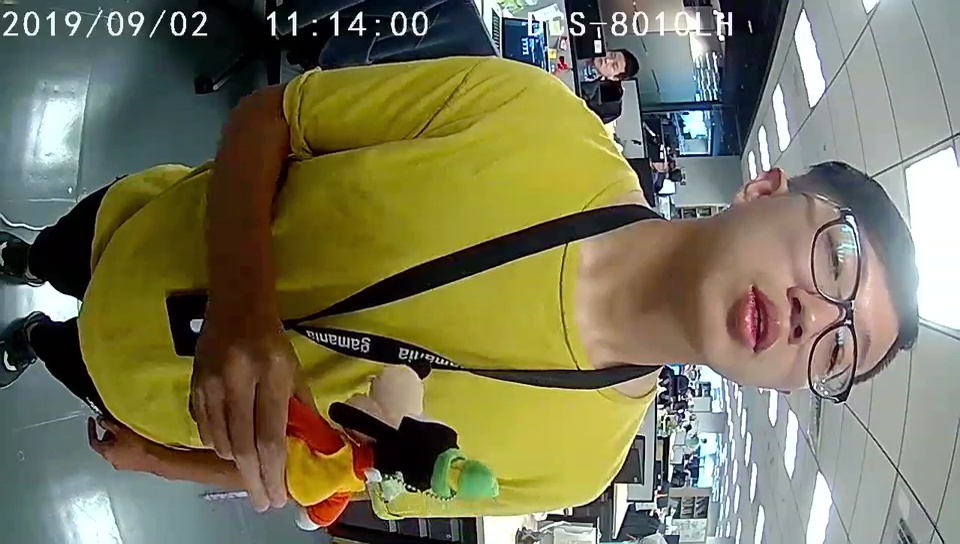goofy: (288, 396, 501, 534)
